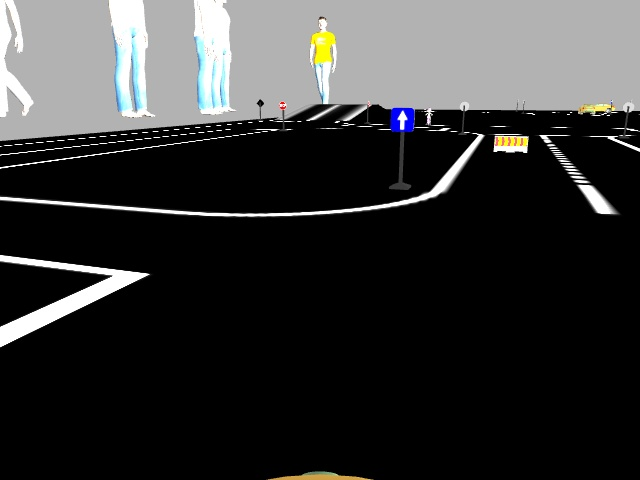ClosedRoadStand: (494, 134, 527, 152)
OneWay: (392, 108, 412, 131)
